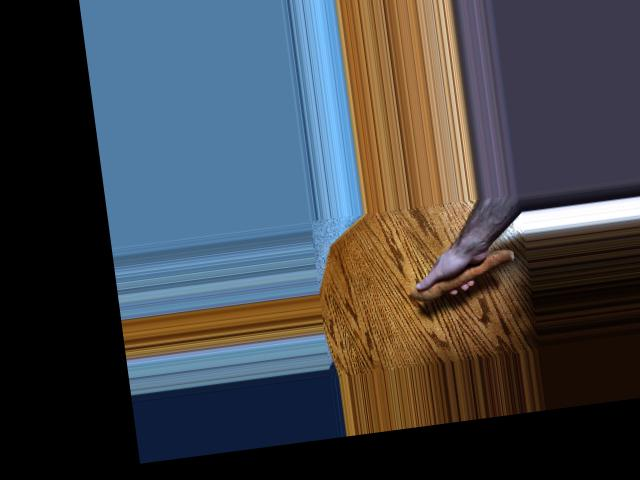sweet_potato: (407, 244, 520, 306)
